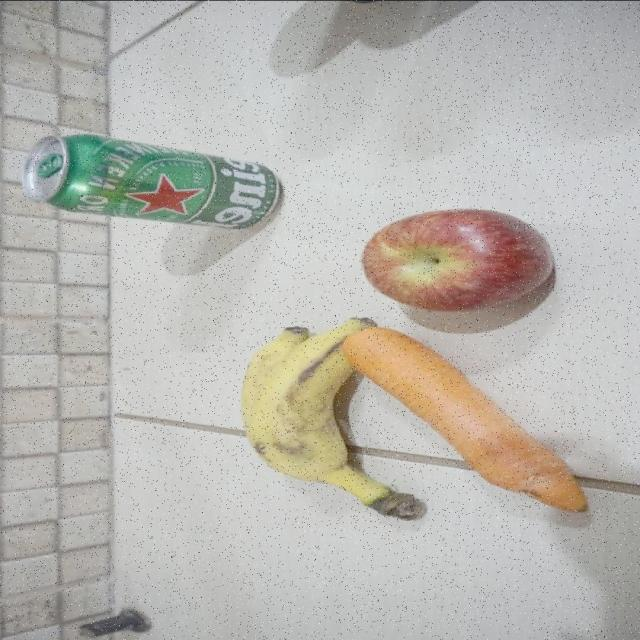Apple: (358, 207, 556, 312)
Banana: (243, 316, 376, 483)
BeerCan: (22, 134, 280, 230)
Carrot: (344, 326, 588, 512)
